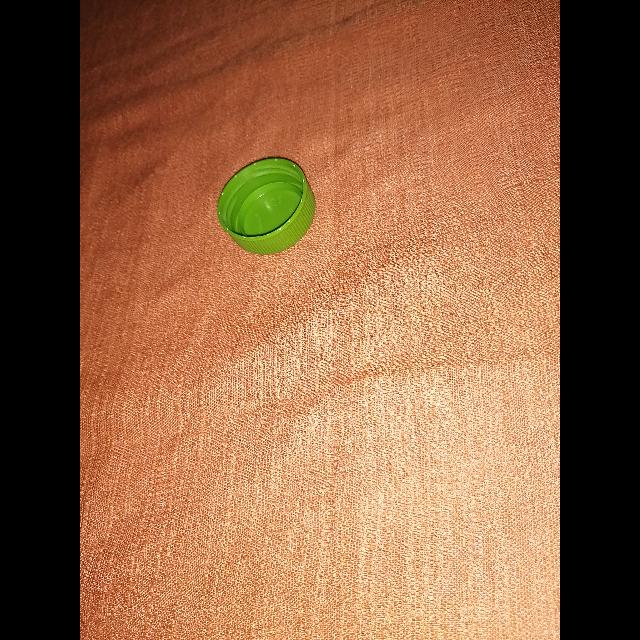plastic_bottle_cap: (215, 156, 317, 256)
